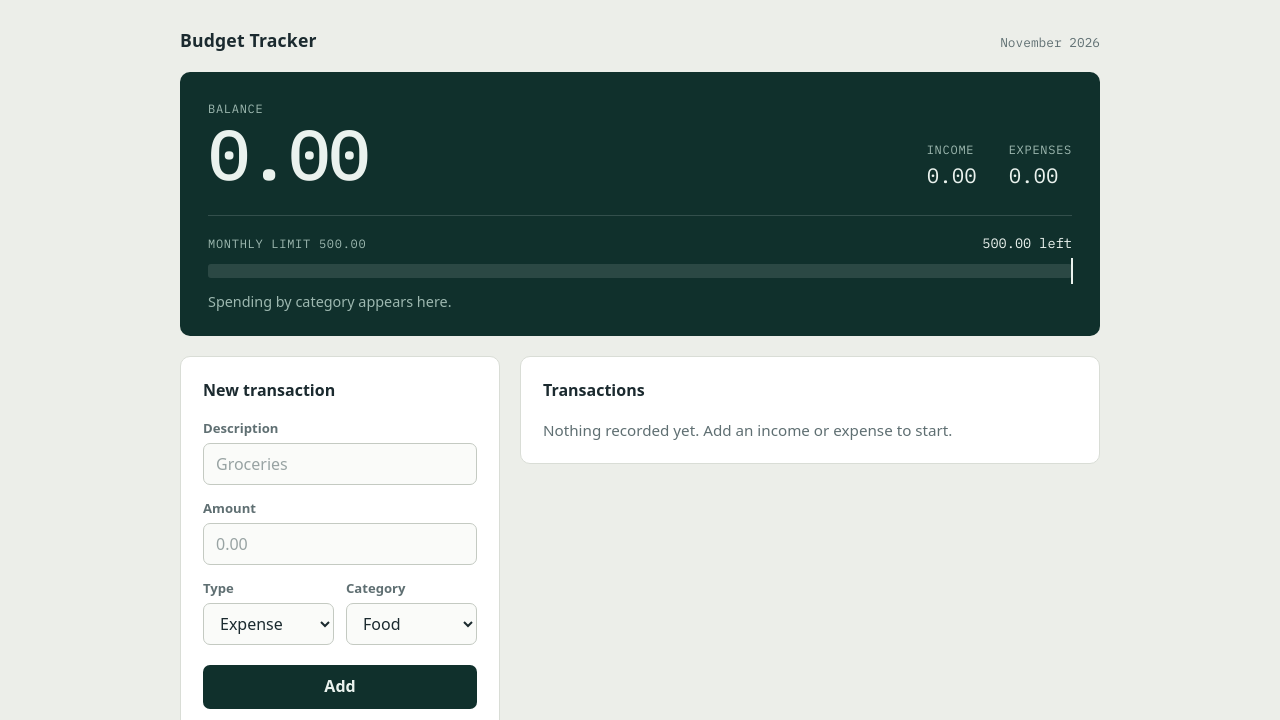
Scenario: App › warns when over the budget limit and can delete
In the field labelled "Description": (340, 464) [203,443,477,485], type "Car"
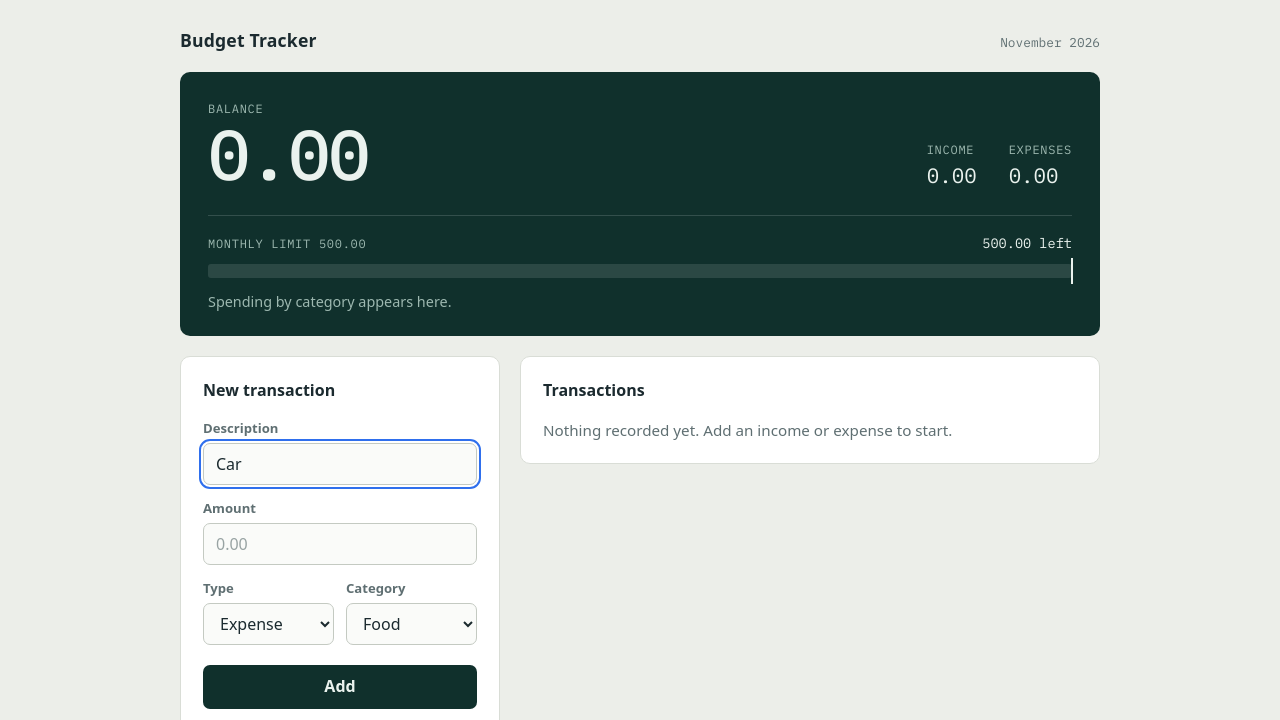
In the field labelled "Amount": (340, 544) [203,523,477,565], type "600"
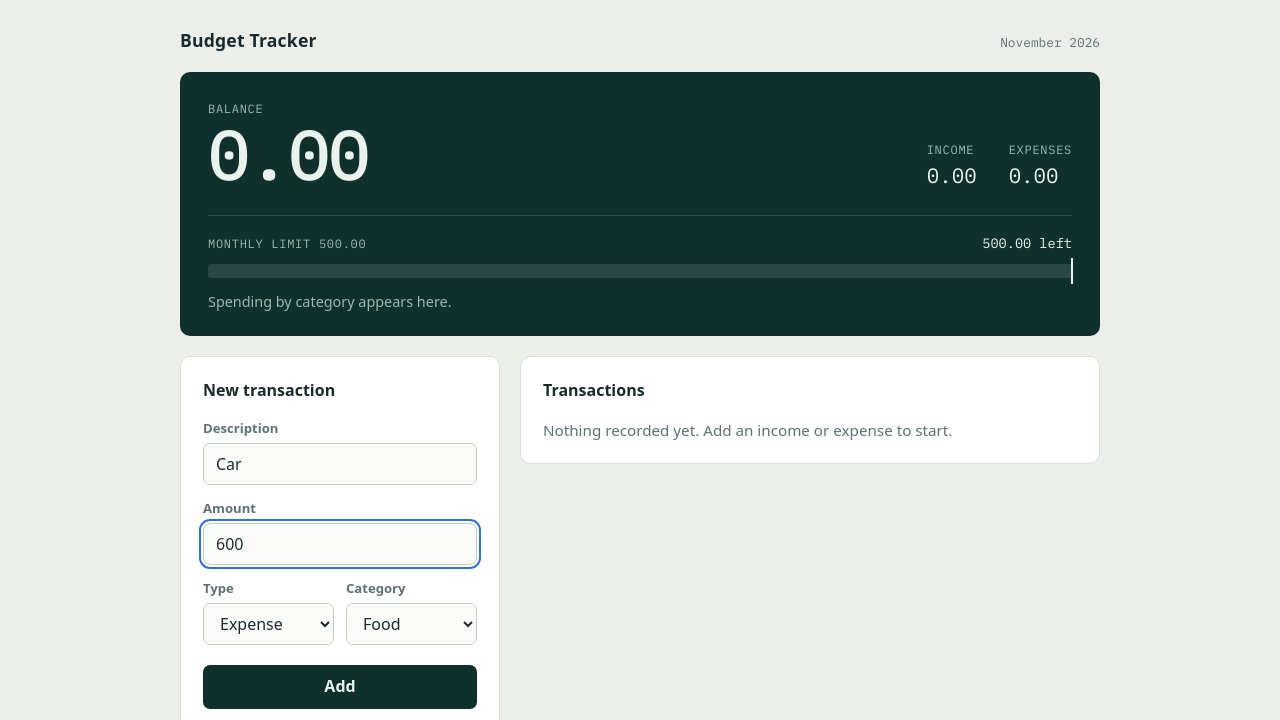
Select "Expense" in the dropdown labelled "Type": (268, 624) [203,603,334,645]
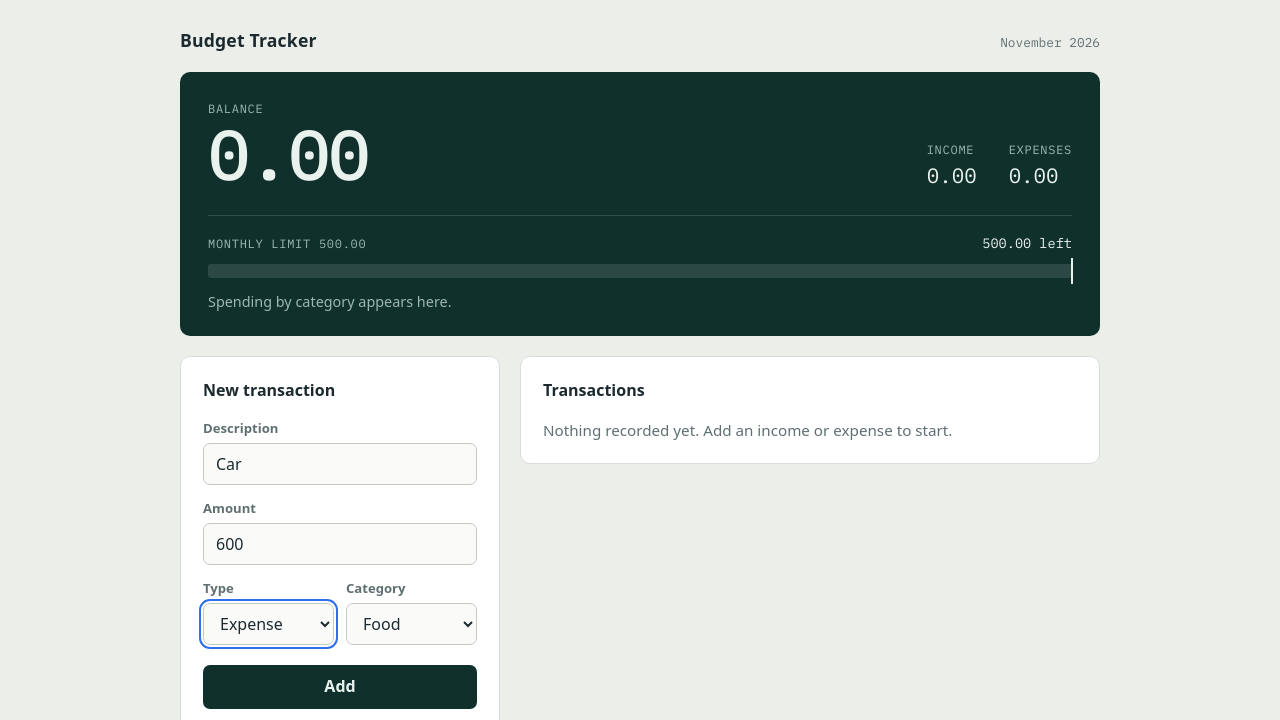
Click the button "Add": (340, 687) [203,665,477,709]
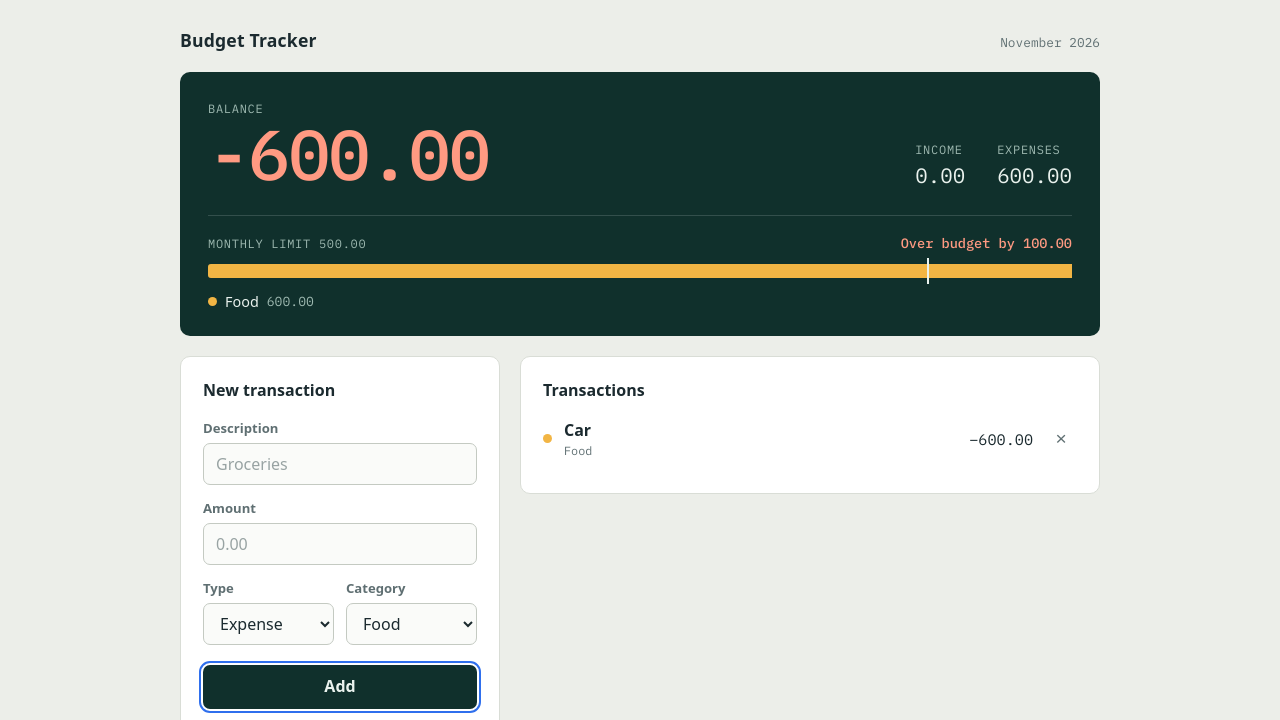
Check: the message shows "Over budget", box [901,234,1023,252]
Click the button named "Delete Car": (1061, 439) [1045,423,1077,455]
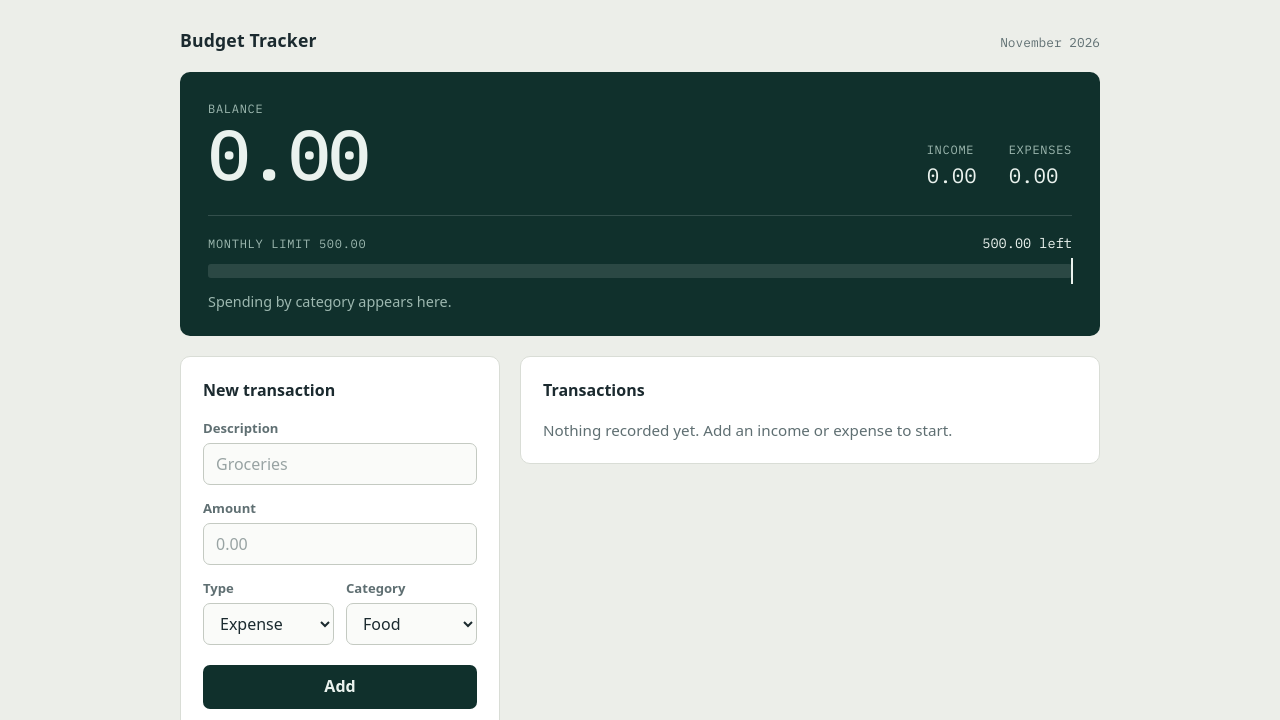
Check: the text with test id "expenses" reads "0.00", box [1009,162,1058,189]
